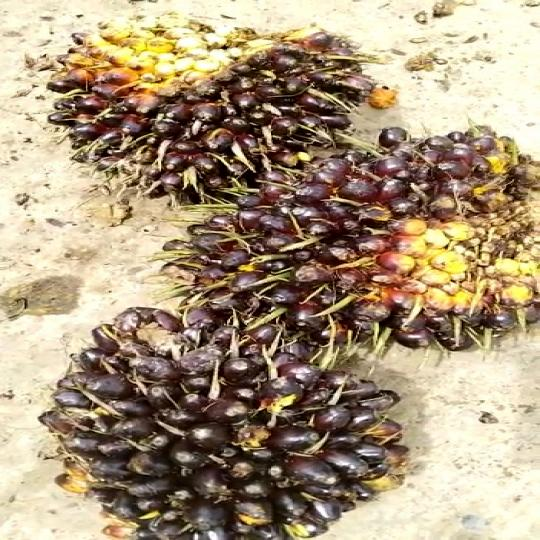mentah: (32, 304, 450, 540), (170, 126, 540, 348), (38, 26, 364, 186)
